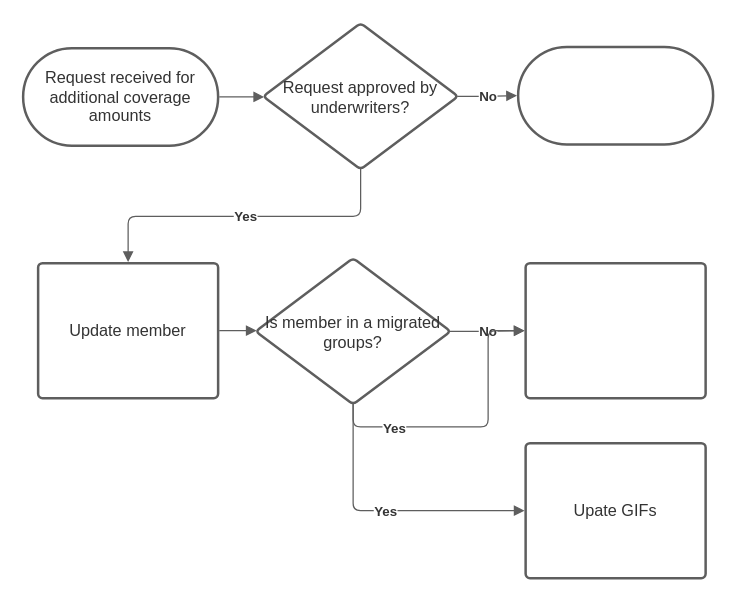
This 735x600 diagram has some shape labels left out. Here are the shapes that lost their labels. From the top down, the centre of each, then its label:
At point 615,95: "Do nothing".
At point 615,330: "Update Compass".
